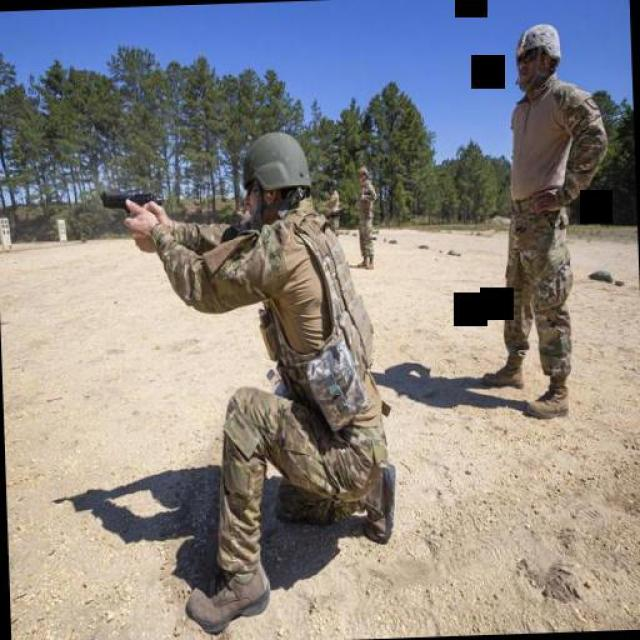gun: (96, 182, 159, 230)
